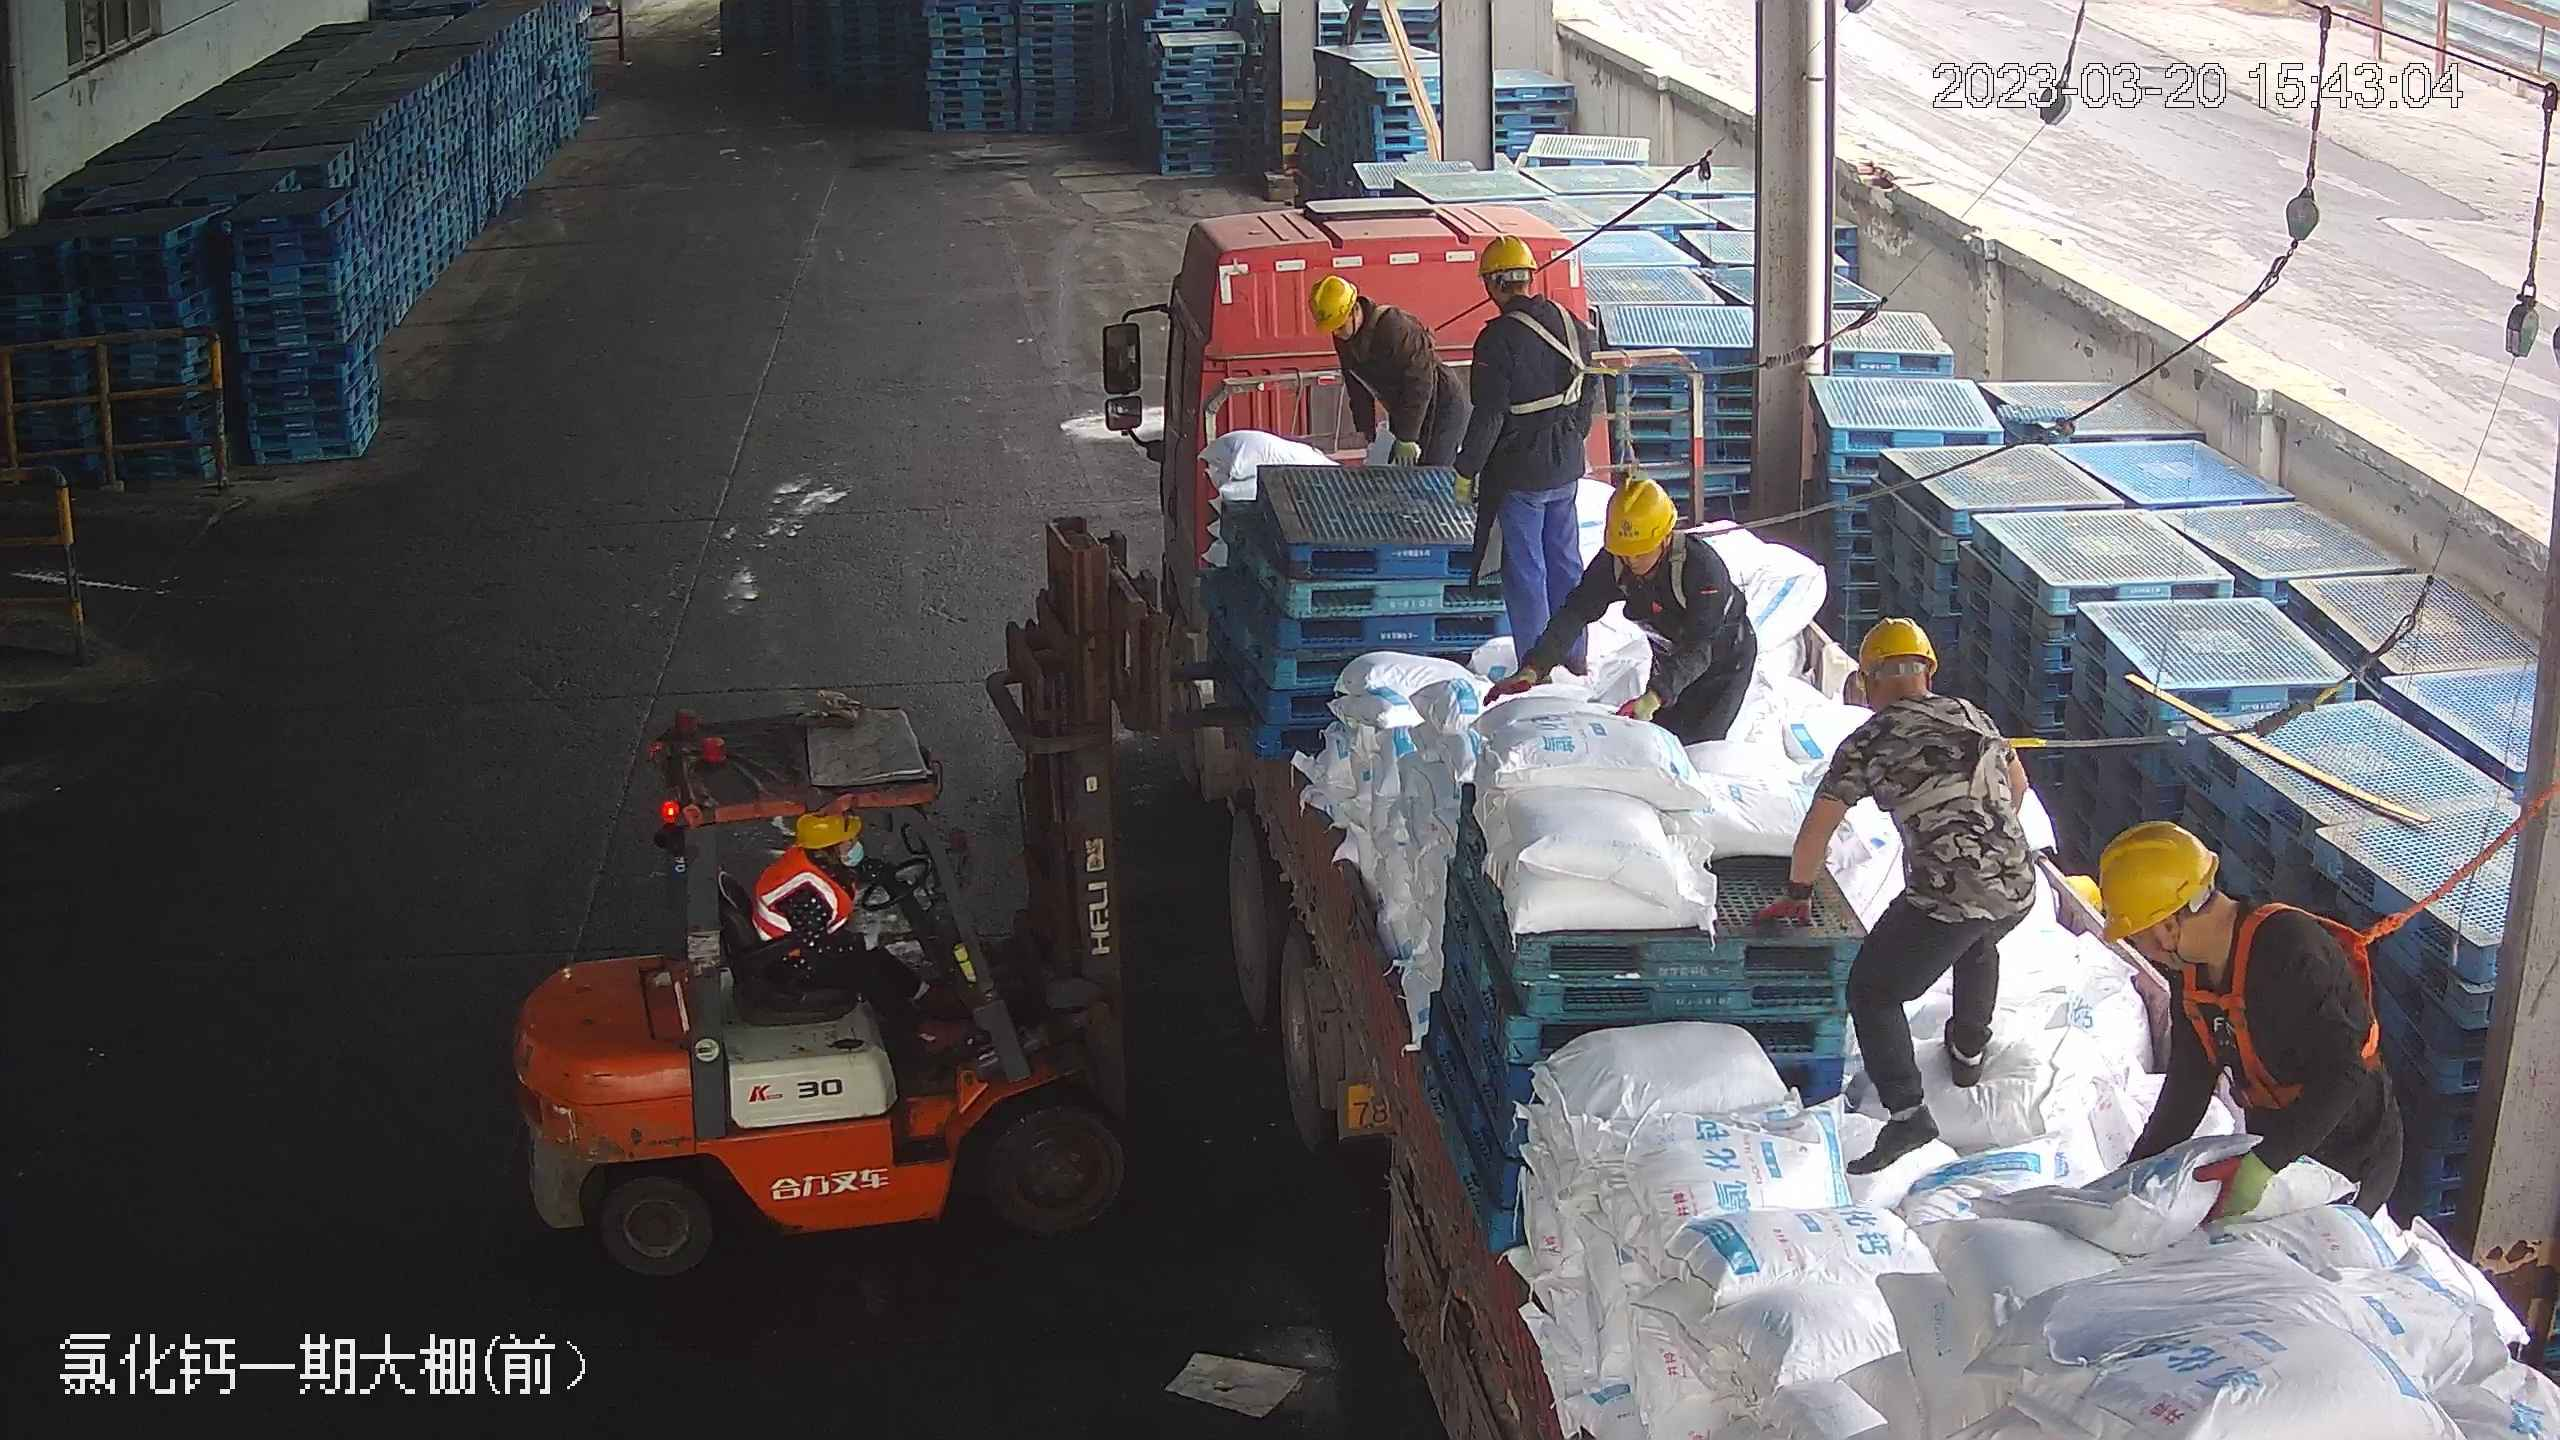belt: (2169, 897, 2402, 1106), (1886, 695, 2048, 831), (1504, 303, 1615, 421), (1609, 525, 1716, 603), (1354, 306, 1445, 381)
head: (2086, 814, 2353, 1032), (1829, 612, 2013, 778), (1569, 472, 1740, 613), (1462, 232, 1599, 378), (1304, 272, 1431, 381), (760, 810, 868, 915)
helmet: (2088, 816, 2221, 948), (1599, 473, 1676, 556), (1849, 612, 1942, 679), (1305, 270, 1361, 334), (1474, 232, 1538, 276), (795, 810, 862, 845)
people: (1779, 605, 2045, 1175), (2092, 809, 2409, 1252), (1495, 471, 1757, 746), (1440, 227, 1594, 673), (746, 806, 969, 1068), (1306, 273, 1466, 478)
truck: (1110, 176, 2481, 1433)
